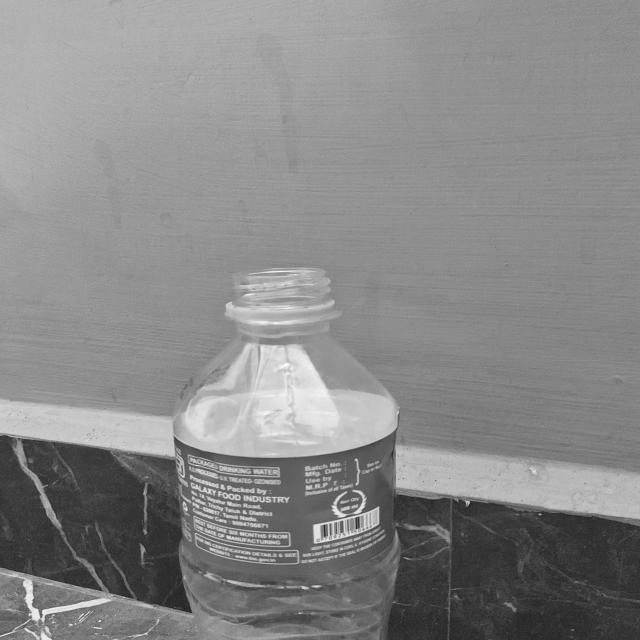open-cap: (222, 258, 344, 329)
